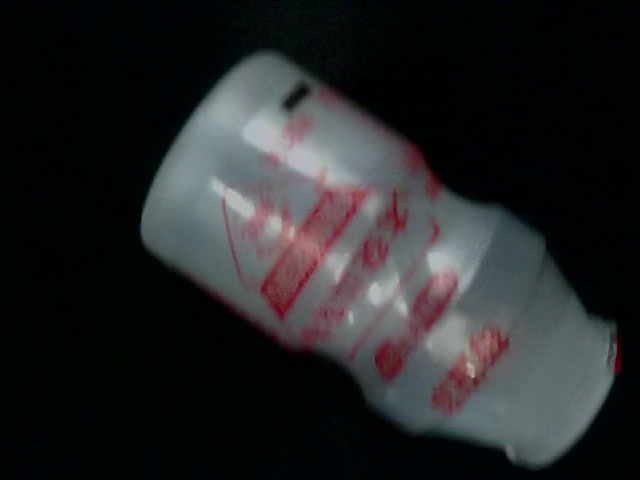CYLJ: (23, 254, 132, 372)
